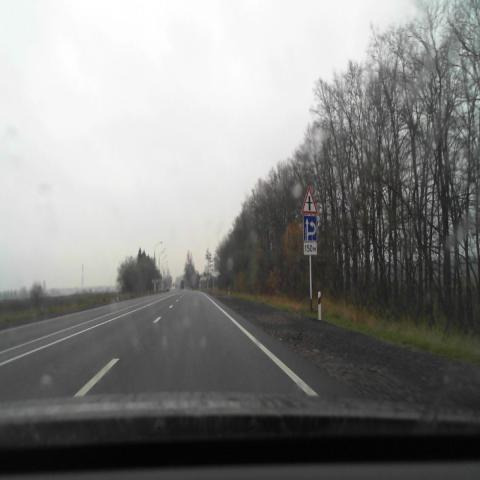2_3: (301, 185, 318, 214)
